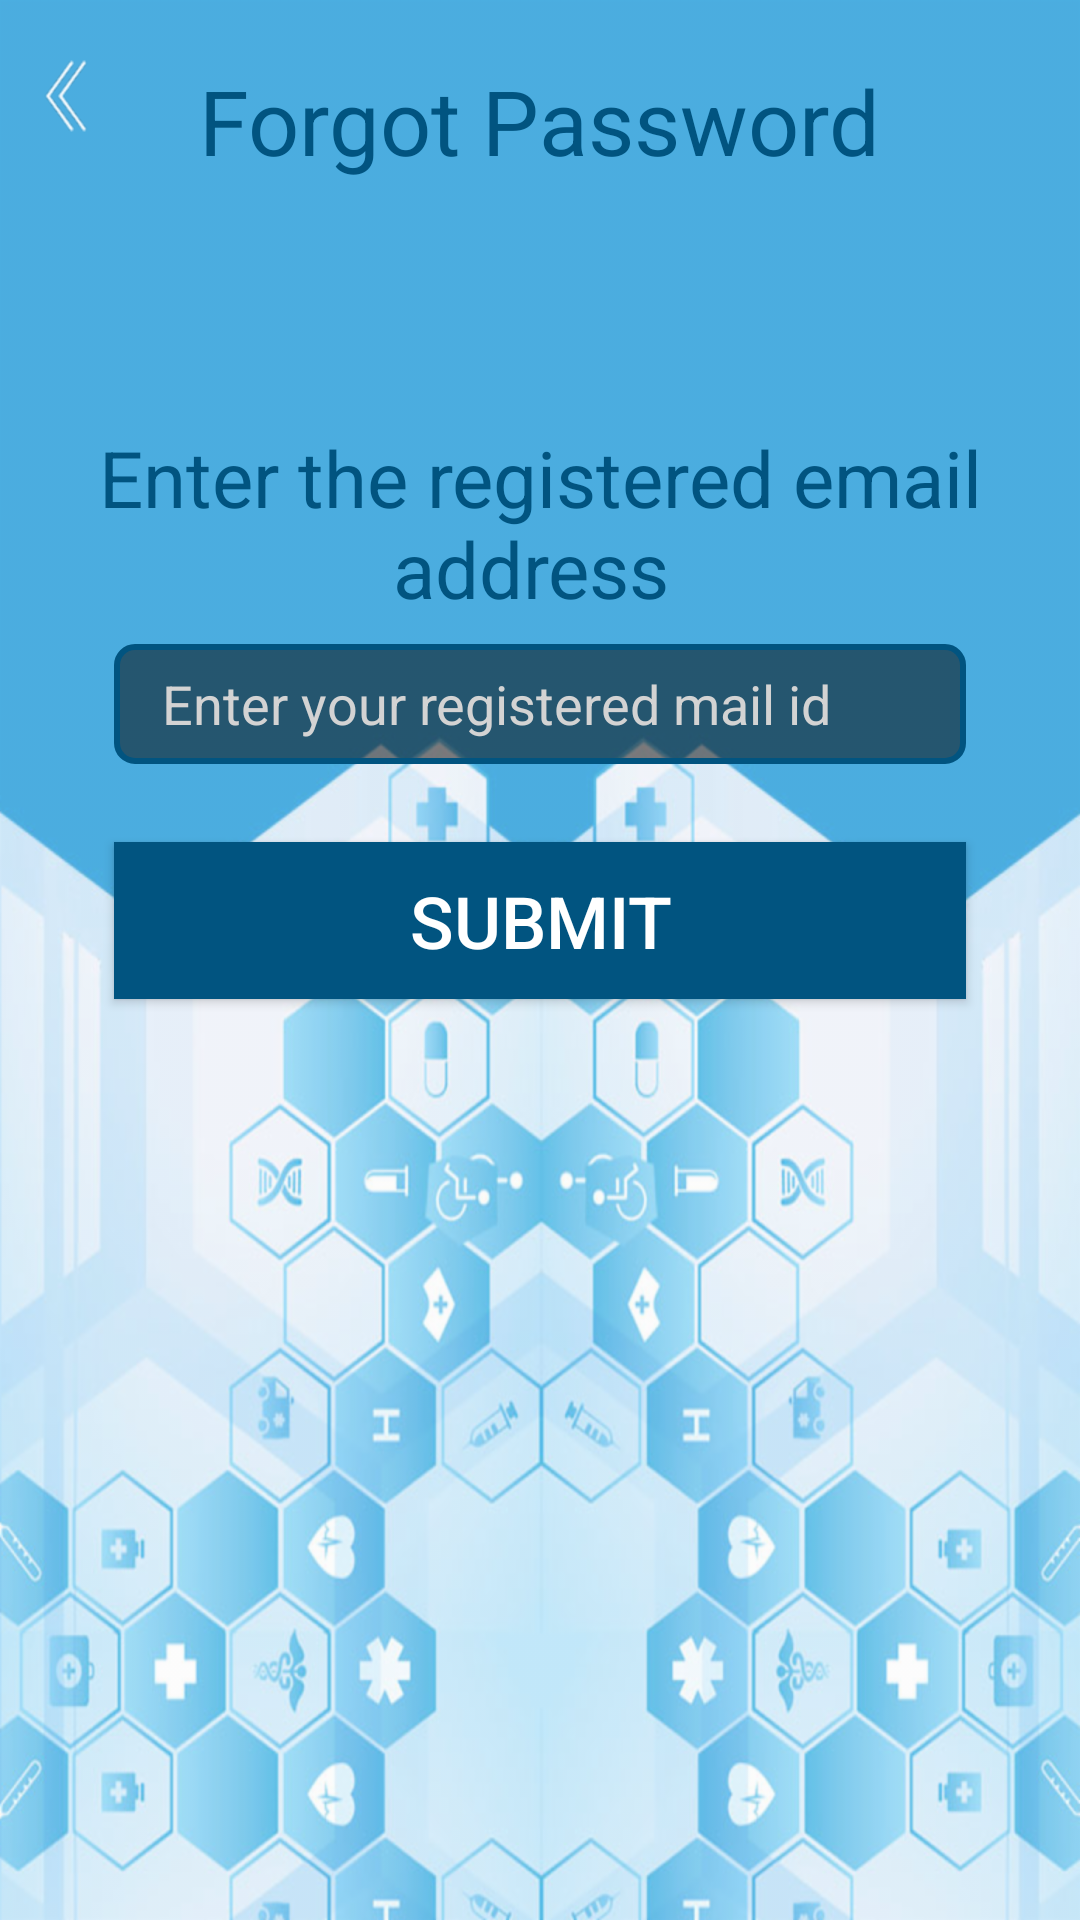

Icons on this 1080 × 1920 Android screen, each with its box as (x1, y1, x2, y2):
back: (46, 60, 86, 132)
